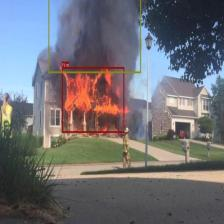fire: (62, 66, 124, 132)
smoke: (48, 0, 141, 72)
